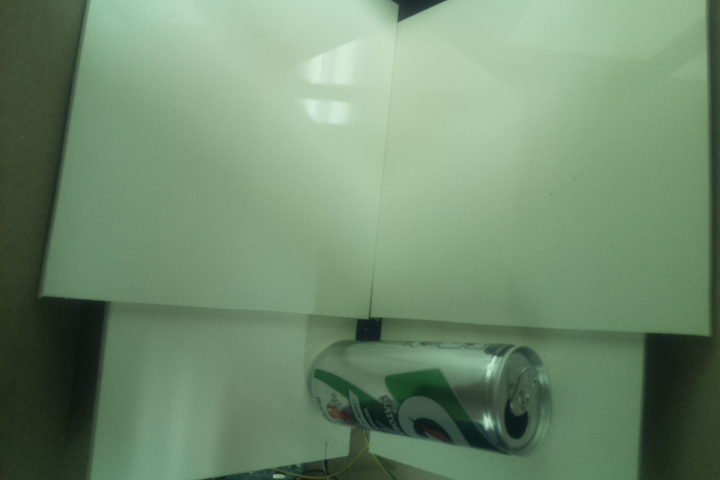can: (308, 334, 557, 459)
